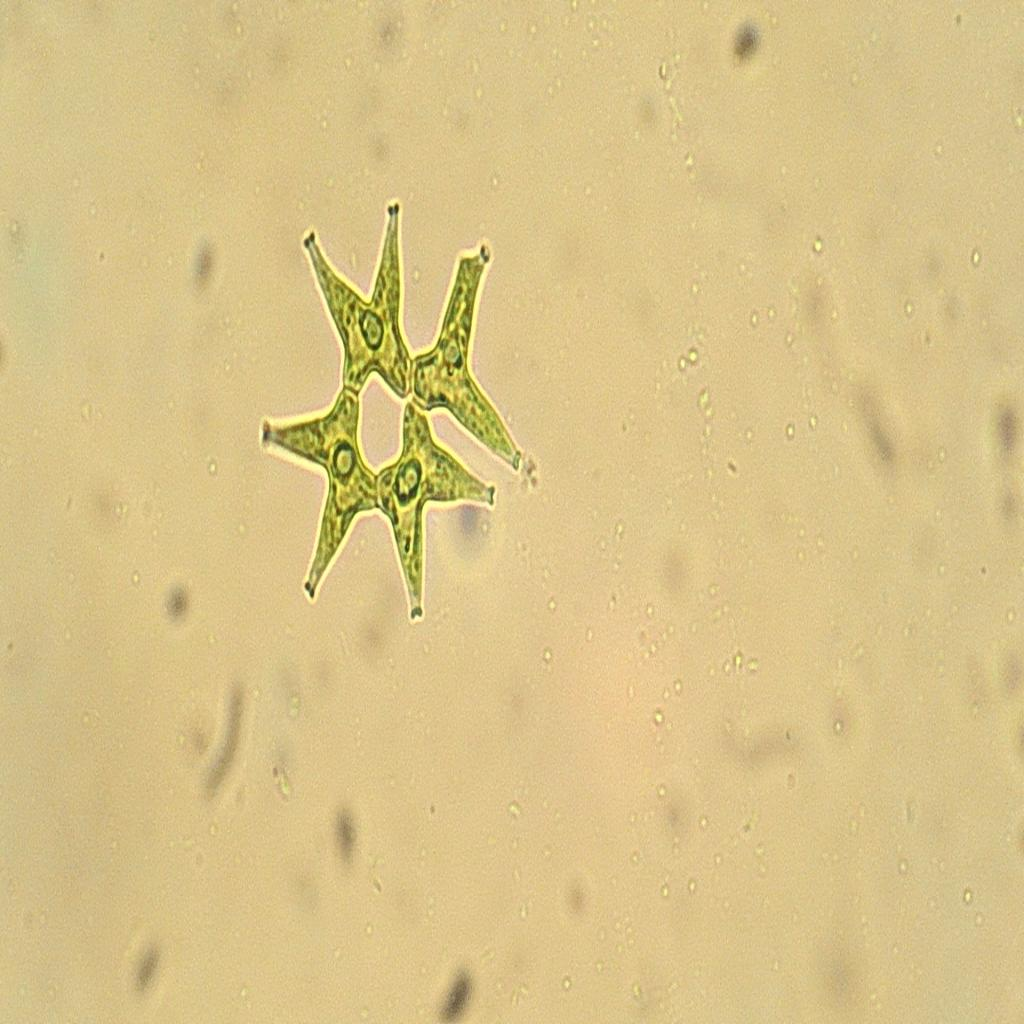Pediastrum_CT: (238, 186, 574, 648)
